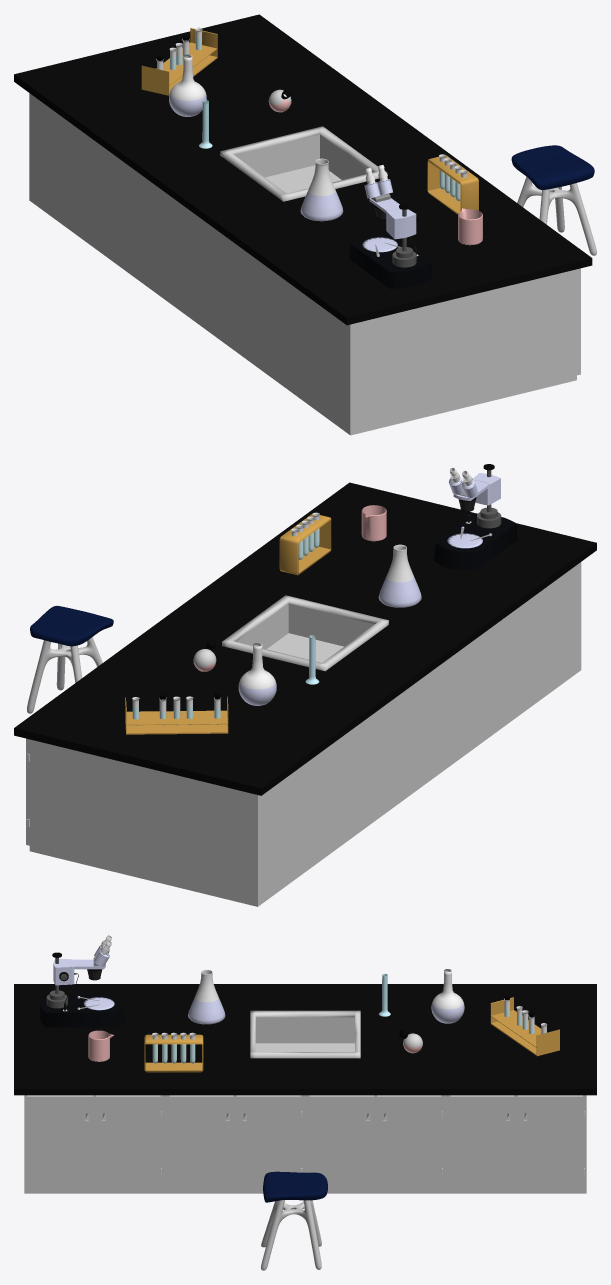
3 views of the same model, one above another, from view 1: azimuth 30°, elevation 25°; view 2: azimuth 150°, elevation 25°; view 3: azimuth 270°, elevation 25° (orthographic). The views are drawn at different scales.
Parts seen in each view (by area): view 1: Boîte001 (×2), Cube.003, Boîte002, Cube.002, BoîteChanfrein002, Capsule016, Sphère001, Boîte003, CylChanfrein001, Cylindre005; view 2: Boîte001 (×2), Boîte002, Cube.003, BoîteChanfrein002, Cube.002, Capsule016, Sphère001, CylChanfrein001, Boîte003; view 3: Boîte001 (×2), Boîte002, Cube.003, Cube.002, Capsule016, BoîteChanfrein002, Sphère001, Boîte003, CylChanfrein001.
Boxes of the visible parts, x1,y1,x2,y2 form: Boîte001 (×2): [14, 14, 592, 435]; Cube.003: [511, 145, 594, 189]; Boîte002: [348, 233, 431, 288]; Cube.002: [517, 176, 596, 255]; BoîteChanfrein002: [427, 155, 478, 214]; Capsule016: [300, 158, 343, 221]; Sphère001: [169, 54, 206, 116]; Boîte003: [369, 194, 416, 239]; CylChanfrein001: [458, 208, 482, 245]; Cylindre005: [392, 203, 416, 267]; Boîte001 (×2): [14, 482, 596, 906]; Boîte002: [433, 513, 516, 570]; Cube.003: [30, 605, 113, 646]; BoîteChanfrein002: [279, 513, 331, 575]; Cube.002: [27, 637, 102, 713]; Capsule016: [378, 544, 421, 607]; Sphère001: [238, 642, 276, 705]; CylChanfrein001: [361, 505, 386, 541]; Boîte003: [453, 473, 500, 505]; Boîte001 (×2): [14, 984, 596, 1193]; Boîte002: [40, 995, 125, 1027]; Cube.003: [263, 1171, 327, 1202]; Cube.002: [261, 1200, 321, 1270]; Capsule016: [188, 969, 225, 1024]; BoîteChanfrein002: [144, 1034, 203, 1072]; Sphère001: [431, 969, 464, 1023]; Boîte003: [53, 958, 105, 985]; CylChanfrein001: [88, 1030, 113, 1061].
Bounding box in the file's own units: 78.26 × 43.58 × 115.
